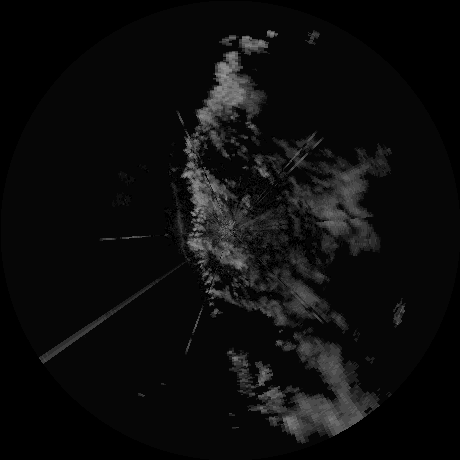frontgust: (168, 181, 187, 261)
